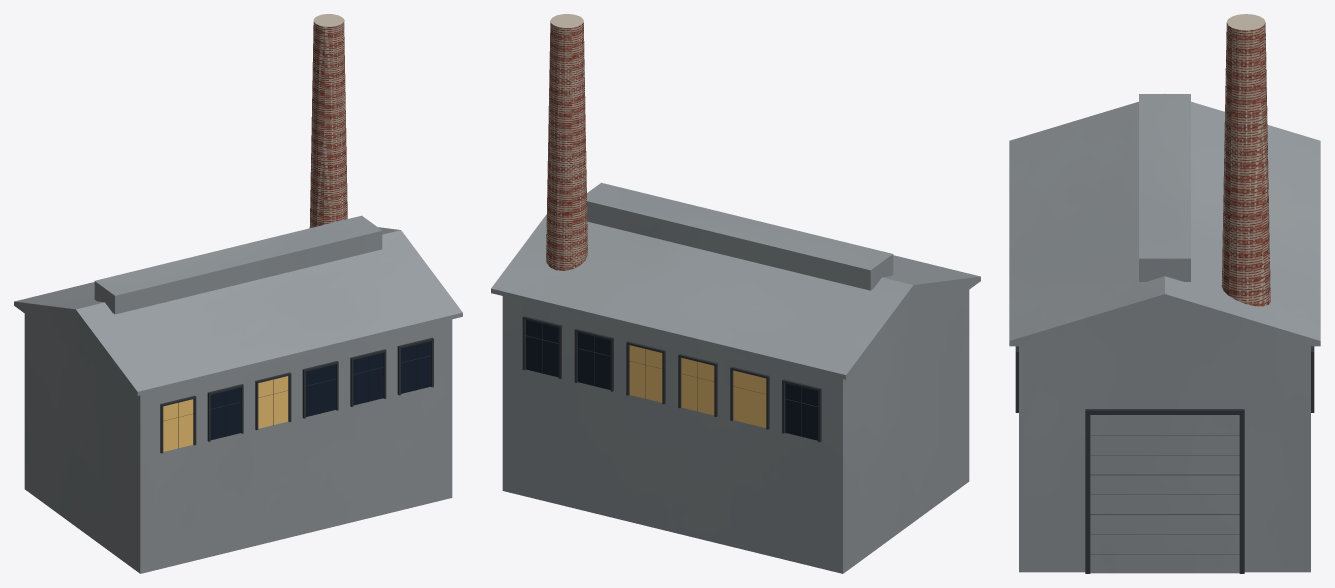
File: pv_valcovna.glb
3 views of the same model, side by side, from view 1: azimuth 30°, elevation 25°; view 2: azimuth 150°, elevation 25°; view 3: azimuth 270°, elevation 25° (orthographic). The views are drawn at different scales.
Parts seen in each view (by area): view 1: dum, noc; view 2: dum, noc; view 3: dum.
Boxes of the visible parts, x1,y1,x2,y2 form: dum: [14, 14, 462, 573]; noc: [163, 376, 288, 451]; dum: [491, 14, 980, 573]; noc: [629, 345, 766, 427]; dum: [1009, 14, 1320, 573].
Bounding box in the file's own units: 14.56 × 17.95 × 9.58.
Materials: 1 (1 with a texture image).
